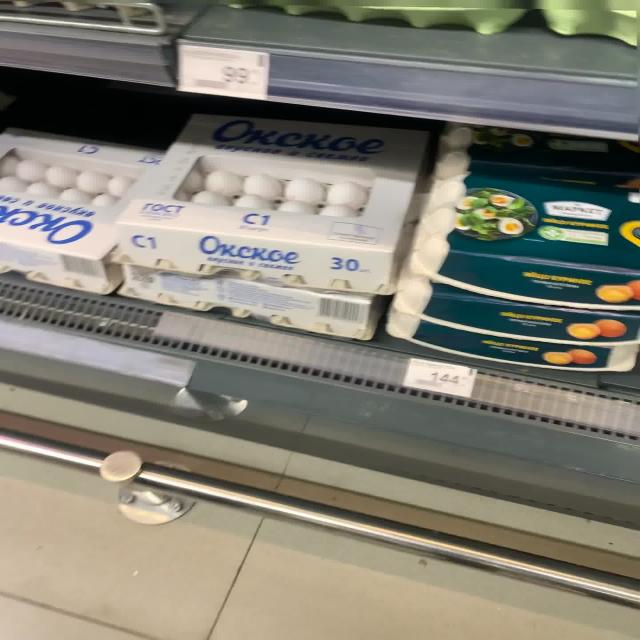egg box: (114, 93, 428, 293), (410, 173, 638, 310), (380, 296, 636, 376), (391, 261, 634, 344)
